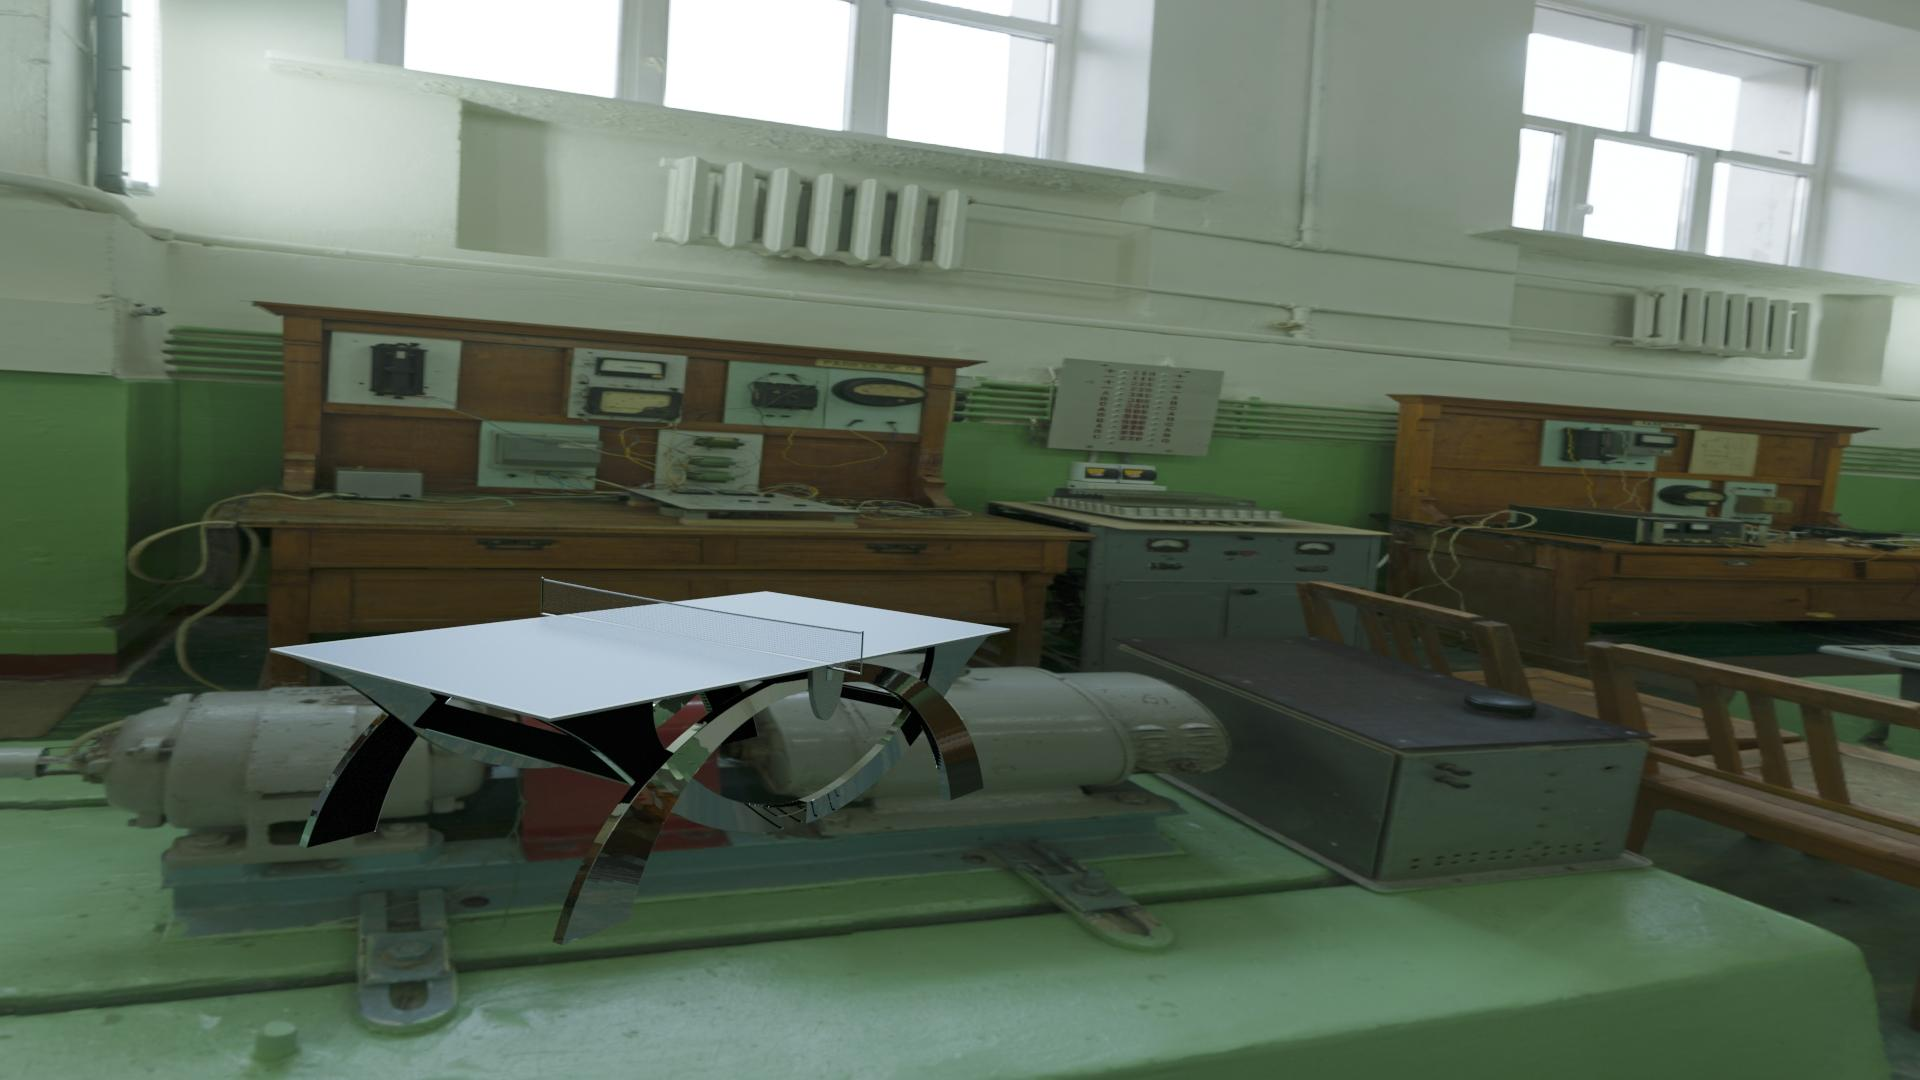table: (278, 592, 1005, 716)
